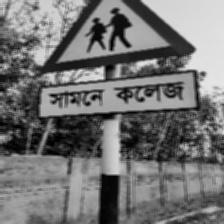College-in-front: (32, 0, 178, 127)
